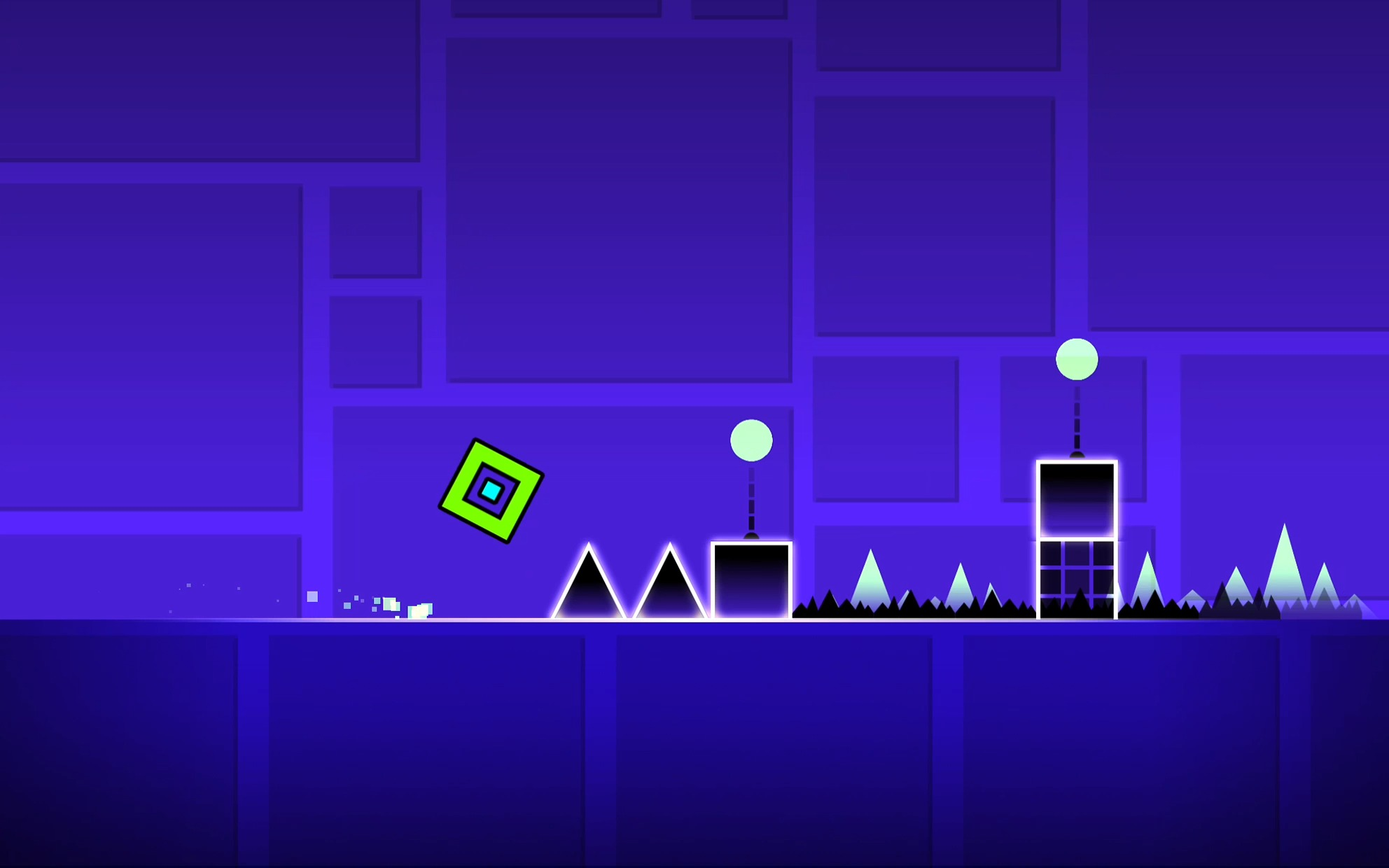Block: (708, 540, 793, 618), (1036, 460, 1116, 538)
Block2: (1040, 540, 1116, 618)
Player: (438, 437, 544, 541)
Spike: (631, 542, 709, 618), (550, 542, 627, 618)
Spike3: (794, 593, 1033, 620), (1284, 563, 1362, 617), (1203, 564, 1279, 618), (1123, 592, 1200, 618)
